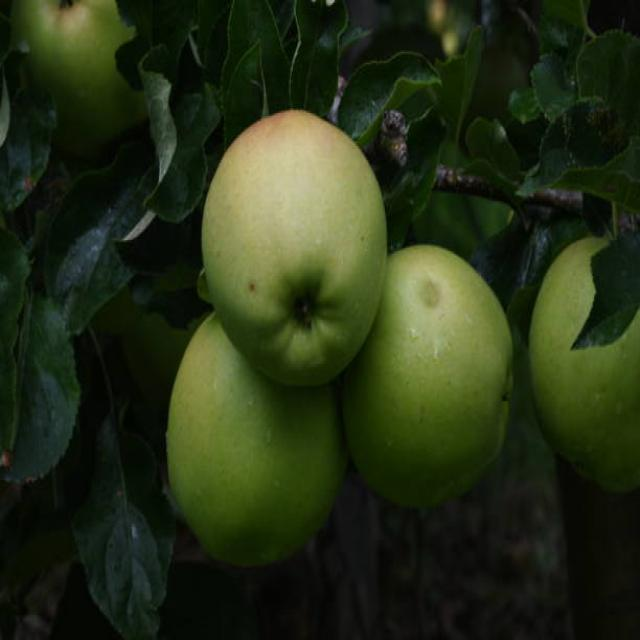Unripe: (199, 109, 387, 390), (348, 242, 515, 510)
